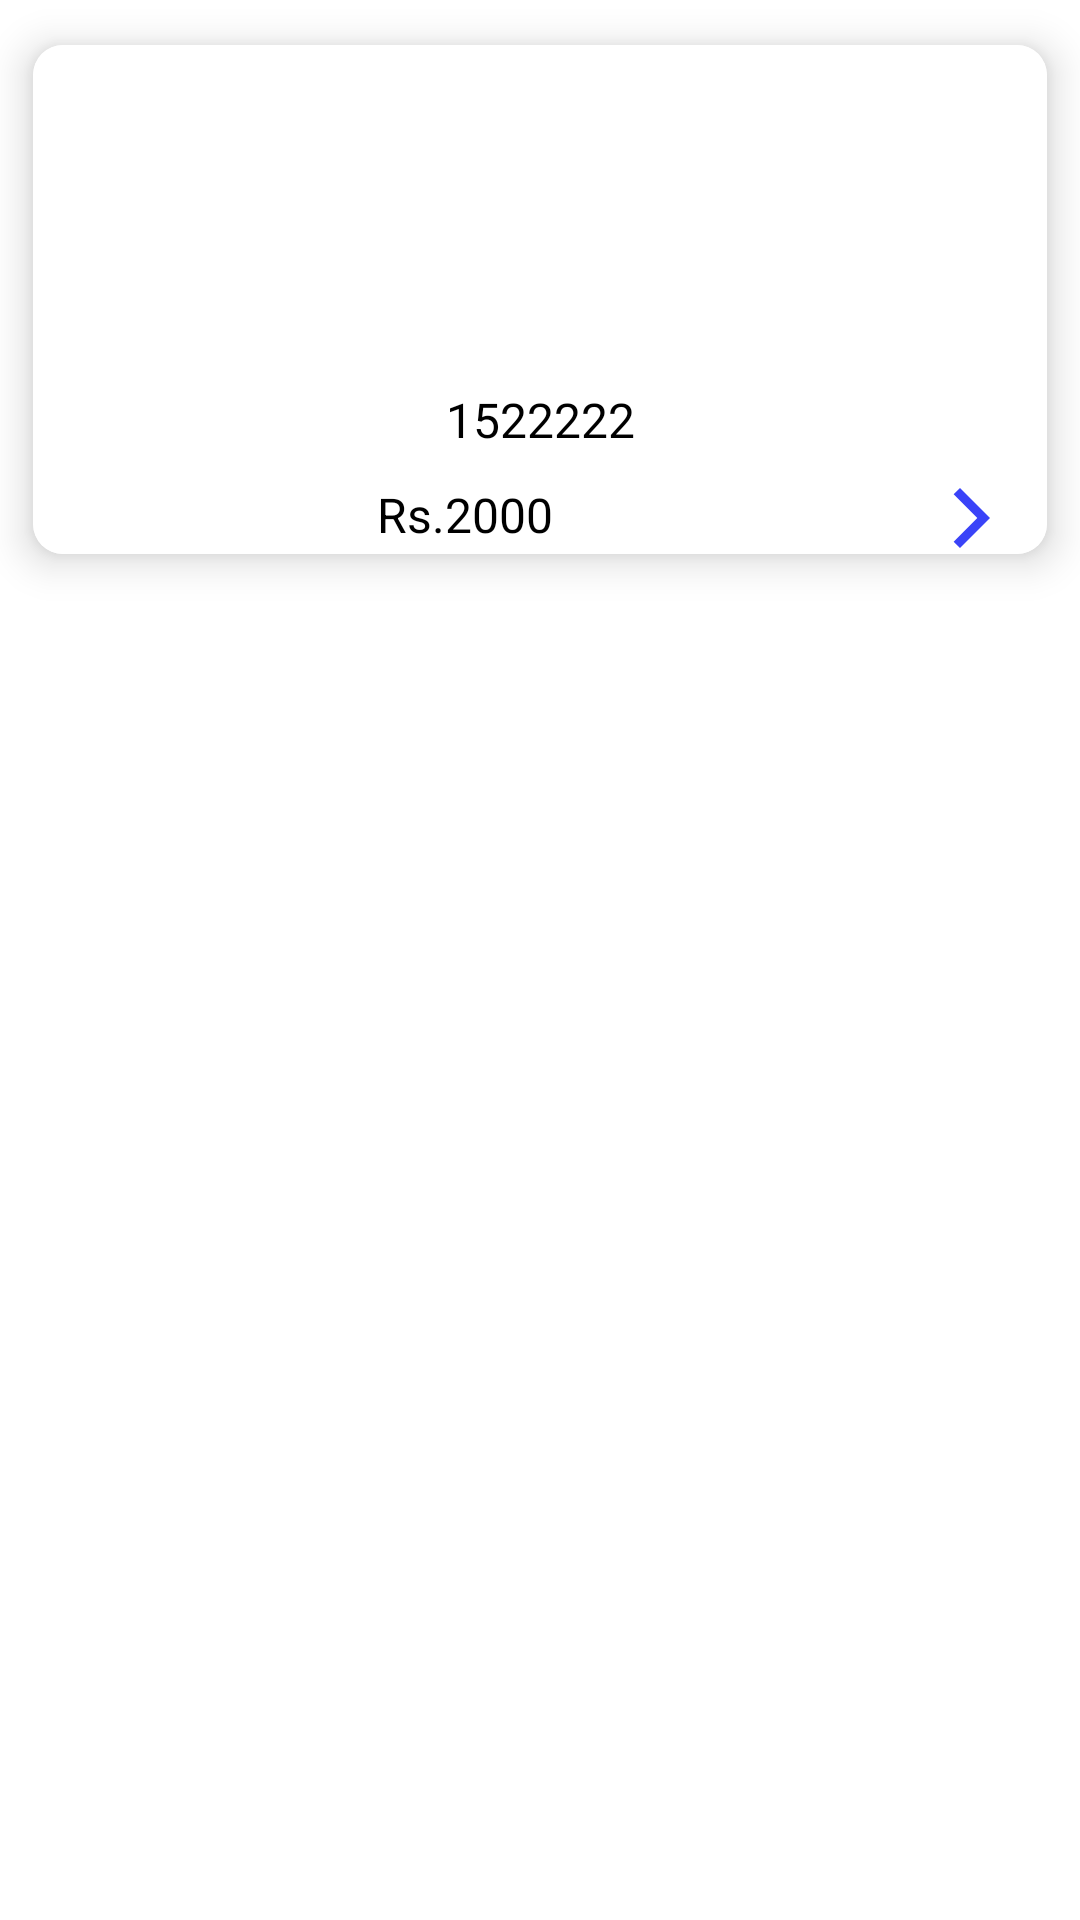

Icons on this 1080×1920 Android screen, each with the point to tap as (x,y):
arrow forward: (972,518)
